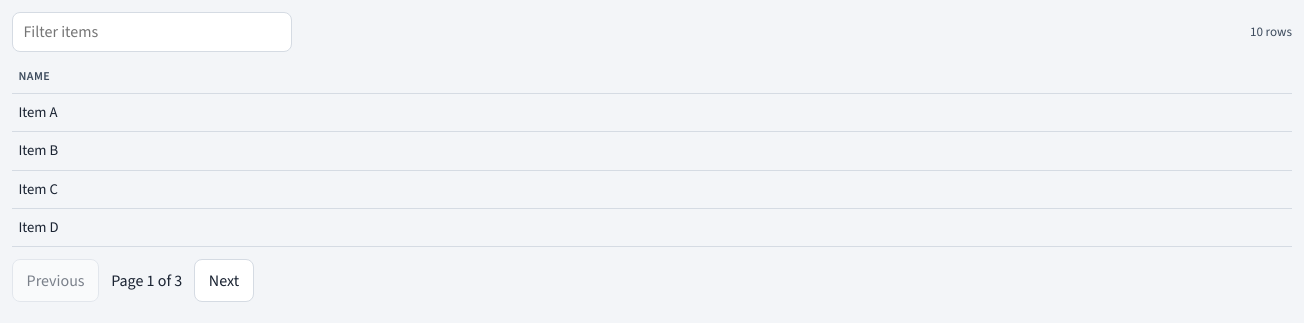
it: shared controls › sorts, filters, and pages a table
This screenshot has width=1304, height=323.
Expected: the text "Item A" is shown, 12,94 -> 1292,132
Click the button "Name" at (34, 76), box 18,68 -> 50,85
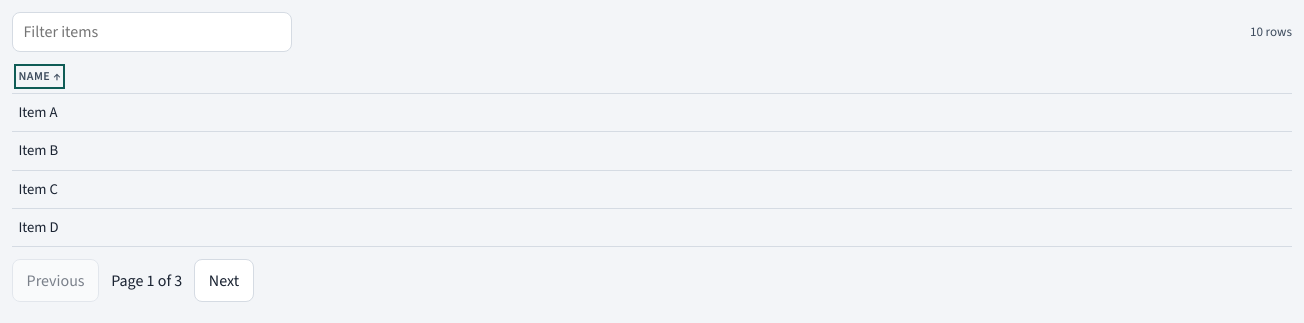
Result: the column heading "Name ↑" has attribute aria-sort="ascending" at 12,60 -> 1292,94
Click the button "Next" at (224, 281), box 194,259 -> 254,302
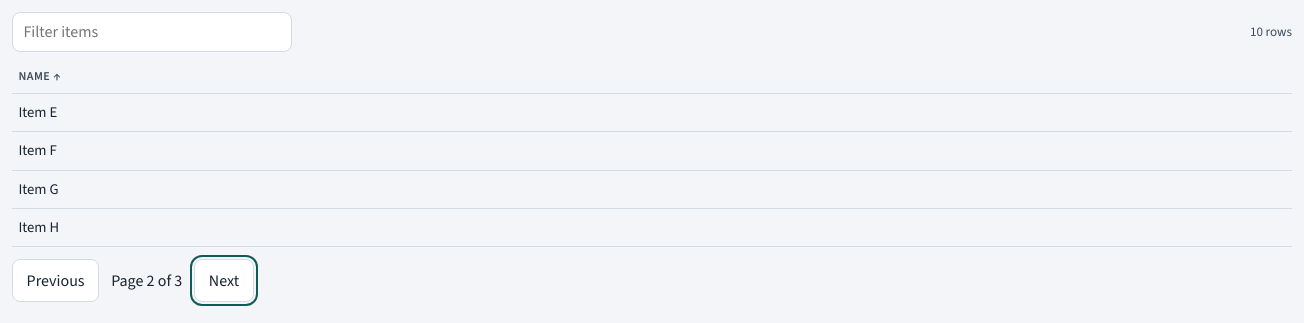
Result: the text "Page 2 of 3" is shown at 111,269 -> 182,292
Type "Item A" into the search field labelled "Filter items" at (152, 32), box 12,12 -> 292,52
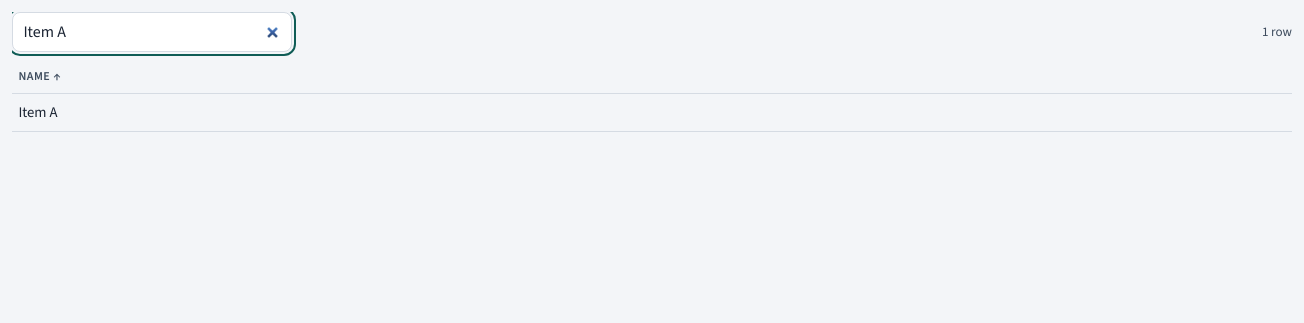
Result: the text "Item A" is shown at 12,94 -> 1292,132
